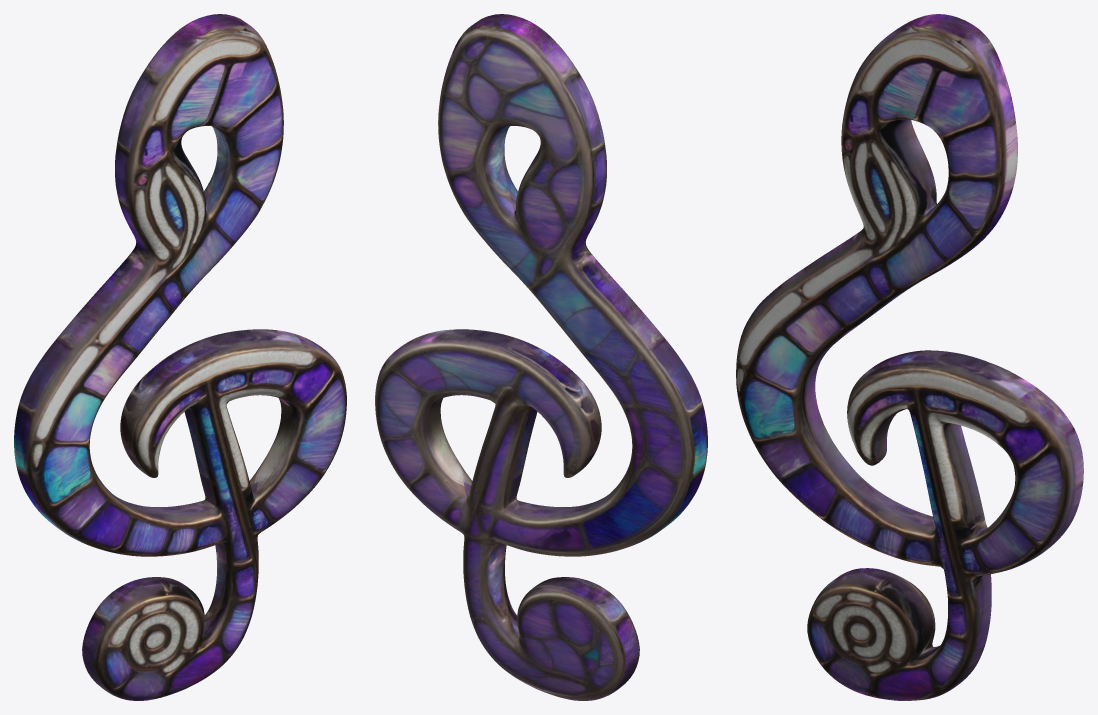
The model's file is purpleNoteBig.glb.
The picture shows the model from 3 angles, left to right: view 1: azimuth 30°, elevation 25°; view 2: azimuth 150°, elevation 25°; view 3: azimuth 330°, elevation 25°; orthographic projection. The views are drawn at different scales.
Visible parts, largest first — view 1: Mesh_0; view 2: Mesh_0; view 3: Mesh_0.
Part boxes in pixels (<box>): Mesh_0: <box>14,14,346,700</box>; Mesh_0: <box>375,14,707,700</box>; Mesh_0: <box>736,14,1083,700</box>.
Size of the model in its own units: 5.11 by 10 by 0.6348.
Materials: 1 (1 with a texture image).
